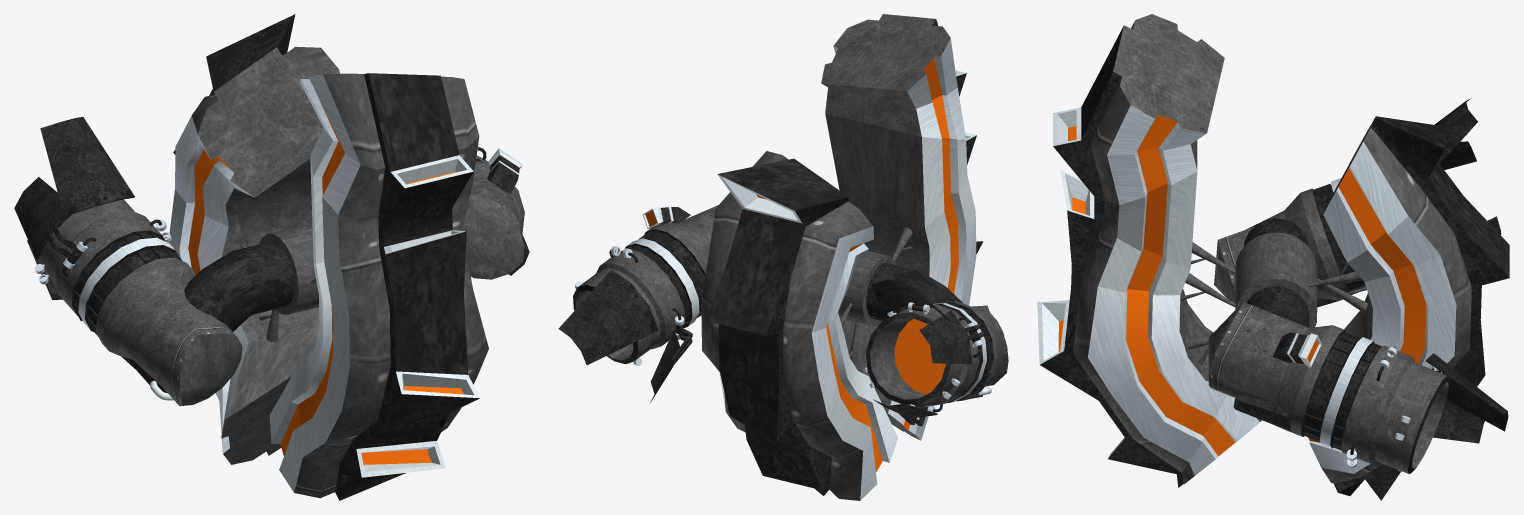
Rendered from DeathWheel_20.dae.
3 views of the same model, side by side, from view 1: azimuth 30°, elevation 25°; view 2: azimuth 150°, elevation 25°; view 3: azimuth 270°, elevation 25° (orthographic). The views are drawn at different scales.
Parts seen in each view (by area): view 1: DeathWheel_2, rightThruster, leftThruster, Axel, polySurface113, polySurface115, ThickSpinner_ncl1_1, ThinSpinner_ncl1_1; view 2: DeathWheel_2, rightThruster, leftThruster, inFlap2, polySurface115, Axel, polySurface113, ThickSpinner, outFlap2, ThinSpinner, rightSpokes, polySurface99 (+1 smaller); view 3: DeathWheel_2, leftThruster, rightThruster, Axel, ThickSpinner, inFlap2, outFlap2, leftSpokes, ThinSpinner, polySurface113, ThickSpinner_ncl1_1, rightSpokes (+1 smaller).
Boxes of the visible parts, x1,y1,x2,y2 form: DeathWheel_2: (168,14,488,500); rightThruster: (34,199,242,406); leftThruster: (462,145,529,279); Axel: (184,241,294,331); polySurface113: (40,117,134,213); polySurface115: (14,177,82,264); ThickSpinner_ncl1_1: (87,247,182,336); ThinSpinner_ncl1_1: (74,232,164,316); DeathWheel_2: (701,14,983,500); rightThruster: (863,301,1008,415); leftThruster: (573,205,718,365); inFlap2: (558,270,658,365); polySurface115: (919,310,984,364); Axel: (866,263,963,321); polySurface113: (872,279,950,320); ThickSpinner: (638,231,705,317); outFlap2: (650,324,692,402); ThinSpinner: (626,245,690,328); rightSpokes: (840,227,912,368); polySurface99: (873,399,937,426); DeathWheel_2: (1037,14,1509,500); leftThruster: (1208,302,1449,474); rightThruster: (1214,178,1351,307); Axel: (1244,218,1309,327); ThickSpinner: (1303,331,1360,441); inFlap2: (1425,353,1508,431); outFlap2: (1433,400,1484,443); leftSpokes: (1180,262,1362,365); ThinSpinner: (1332,343,1382,450); polySurface113: (1434,98,1477,163); ThickSpinner_ncl1_1: (1313,184,1365,294); rightSpokes: (1191,242,1367,313).
Size of the model in its own units: 5.61 by 5.44 by 5.02.
